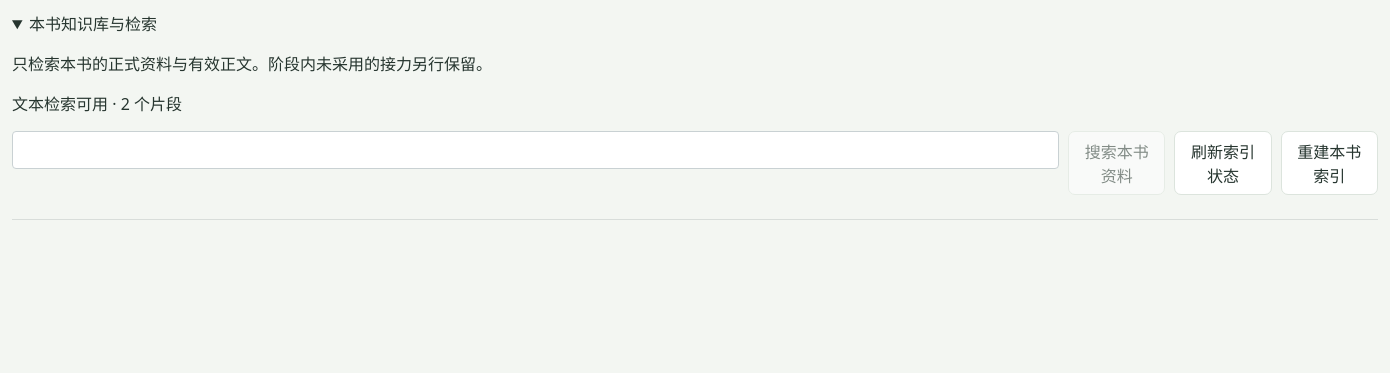
it: 本书知识库 › loads on demand and searches only the selected novel
Expected: the text "文本检索可用 · 2 个片段" is shown, [12, 93, 182, 115]
Type "交剑" into the field named "本书知识检索词".
click(536, 150); type("交剑")  # box [12, 131, 1059, 169]
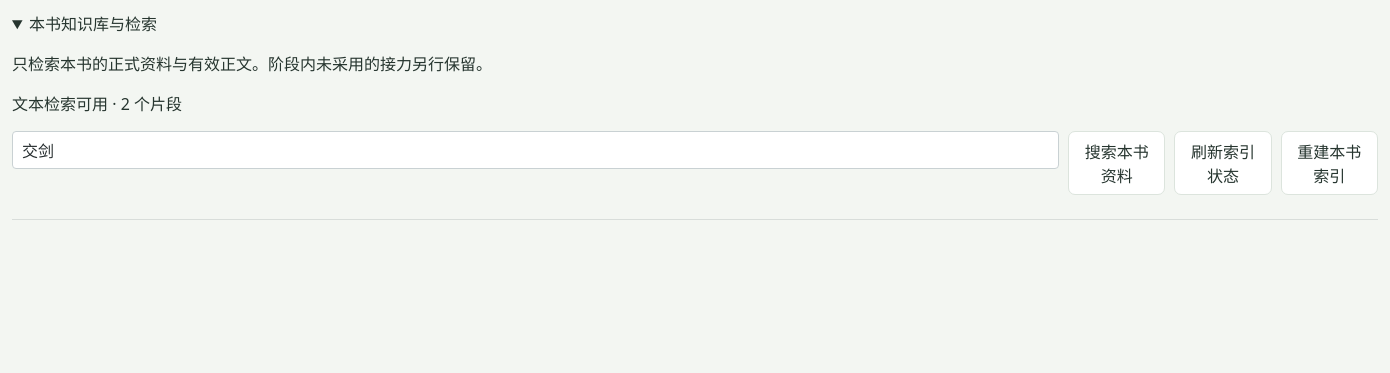
Click the button "搜索本书资料".
click(1117, 163)  # box [1068, 131, 1166, 195]
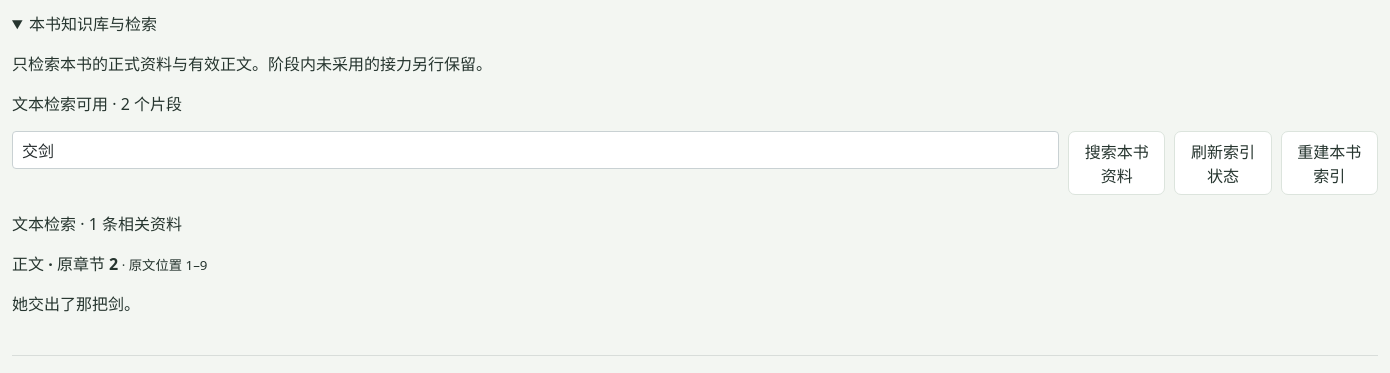
Result: the text "她交出了那把剑。" is shown at [12, 293, 140, 315]
